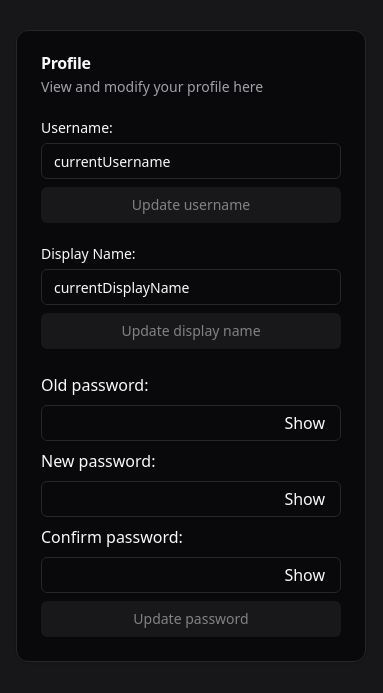
Profile Component › updates username successfully
The width and height of the screenshot is (383, 693).
Replace the text in the field labelled "Username:" with "newUsername" at [191, 161], box x1=41 y1=143 x2=341 y2=179
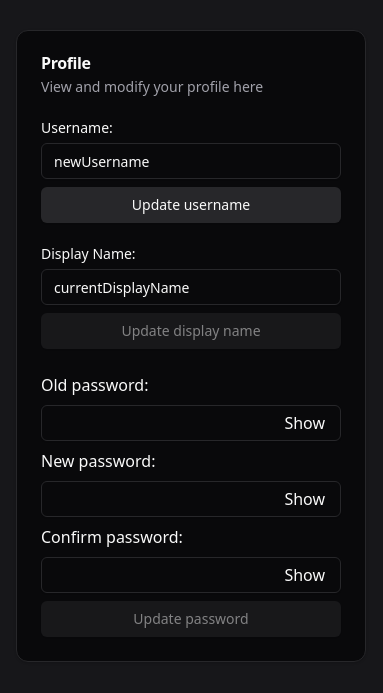
Click the button "Update username".
click(191, 205)  # box x1=41 y1=187 x2=341 y2=223
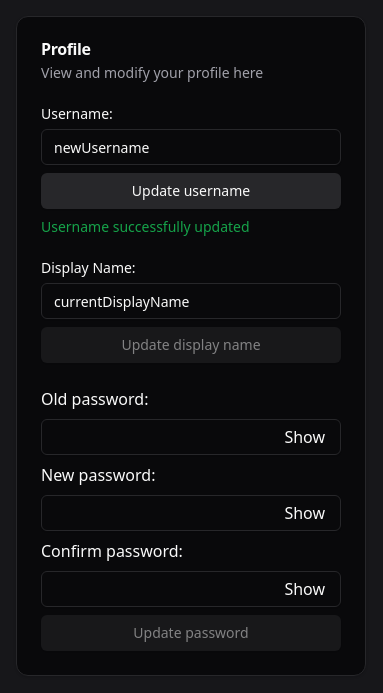
Check: the heading "Username successfully updated" is shown, box x1=41 y1=217 x2=250 y2=236
